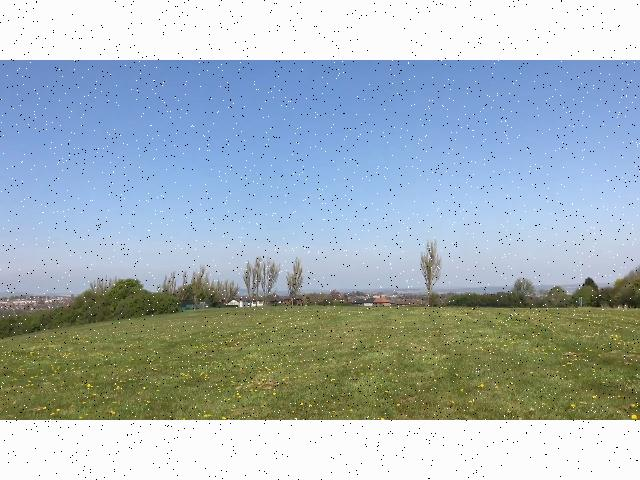Anti-Drone: (226, 233, 252, 243)
